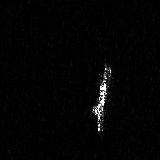ship: (88, 57, 112, 135)
